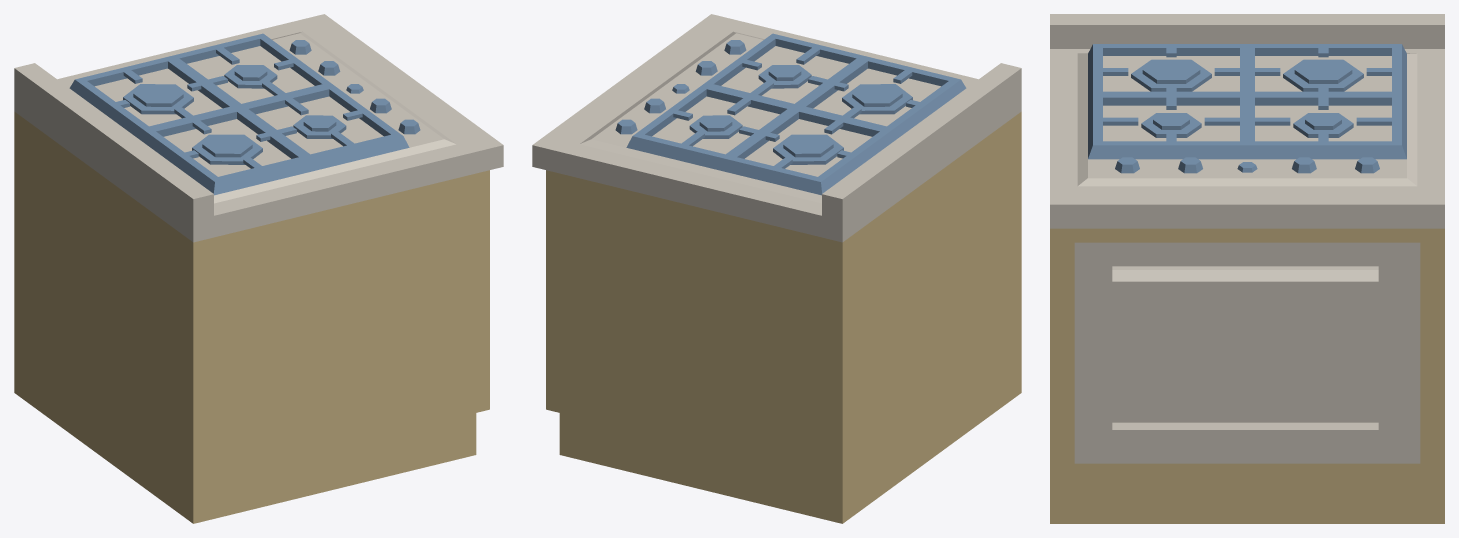
The model's file is kitchen-stove.glb.
3 views of the same model, side by side, from view 1: azimuth 30°, elevation 25°; view 2: azimuth 150°, elevation 25°; view 3: azimuth 270°, elevation 25° (orthographic). The views are drawn at different scales.
Bounding box in the file's own units: 1 × 1 × 1.
